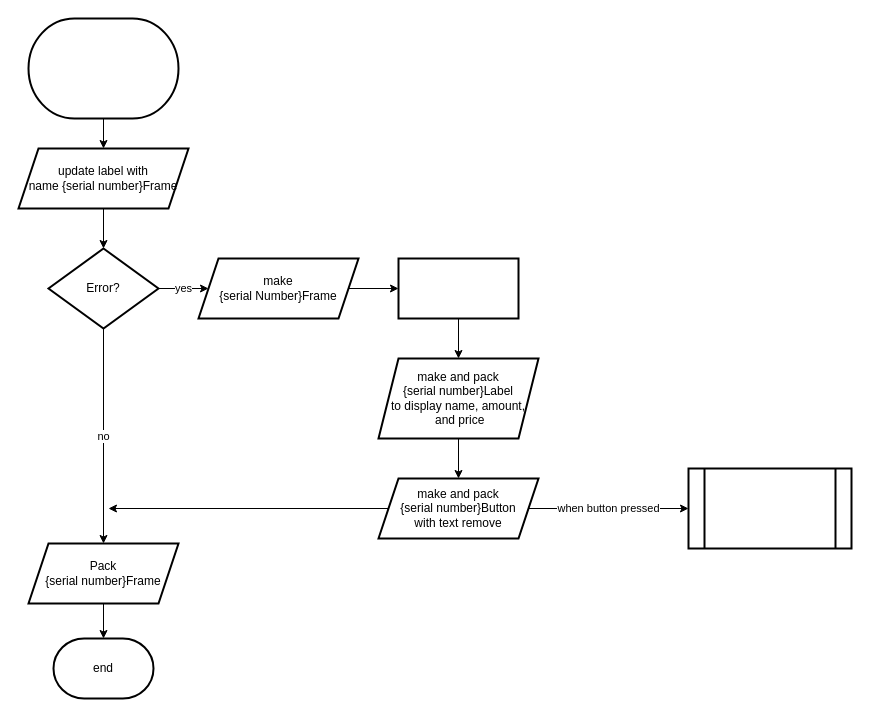
Image size: 869x716. Some labels were removed from this diagram. Here are the shapes that lost their labels. From the top down, the box of each, then its label:
(27, 17, 179, 119): make_cart_label int: amount floate: price string: name string: serial number
(397, 257, 519, 319): configure columns of {serial number}Frame
(687, 467, 852, 549): remove_cart_label with argumentss serial number and is_cart_button = True
